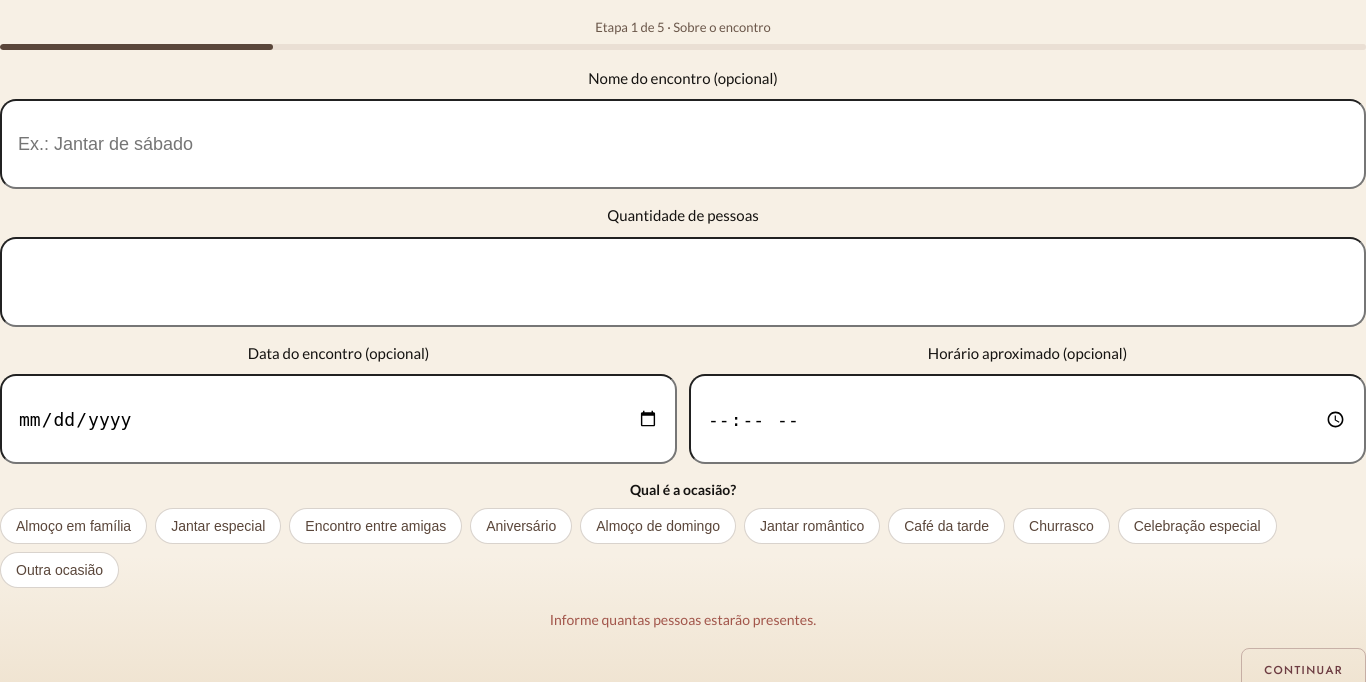
Test: MenuBuilderPage › exige a quantidade de pessoas e ao menos uma etapa do cardápio
Earlier steps of the test are not shown.
Expected: the message shows "quantas pessoas", [550, 611, 816, 628]
Type "6" into the number field labelled "Quantidade de pessoas" at (683, 282), box [0, 237, 1365, 327]
(page scrolled)
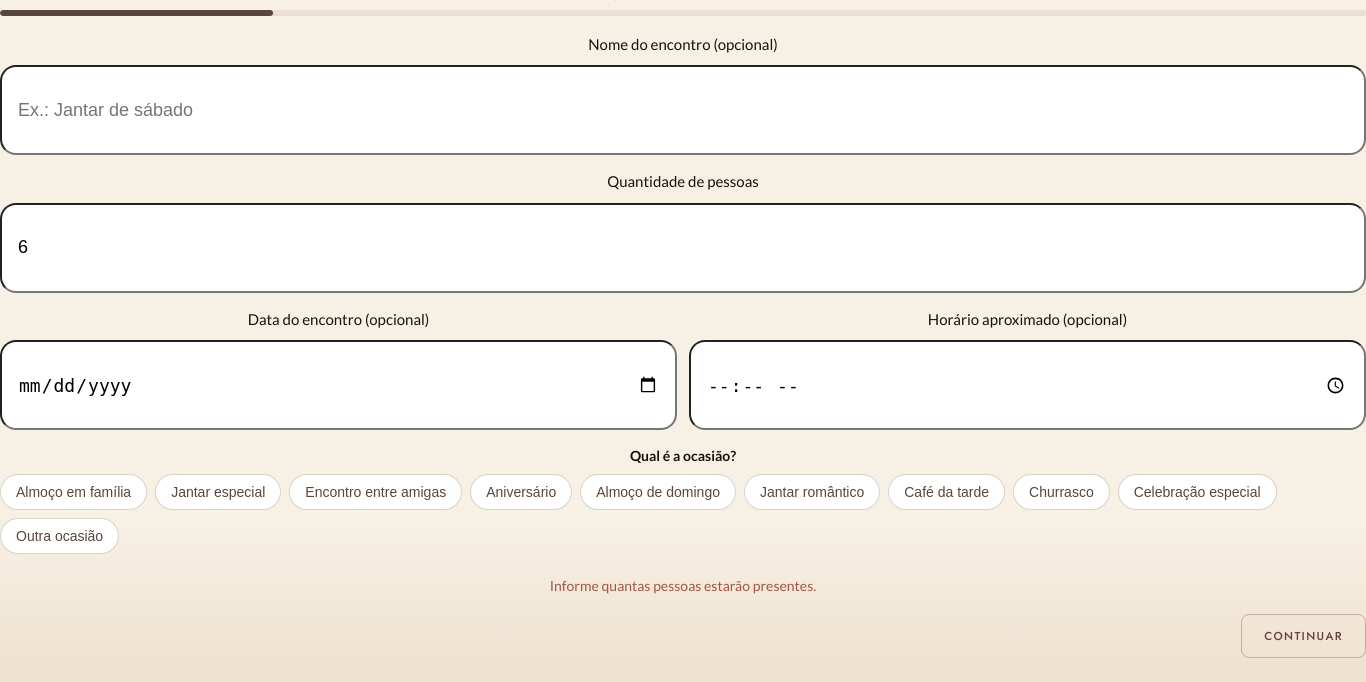
Click the button "Continuar" at (1304, 636), box [1241, 614, 1365, 658]
(page scrolled)
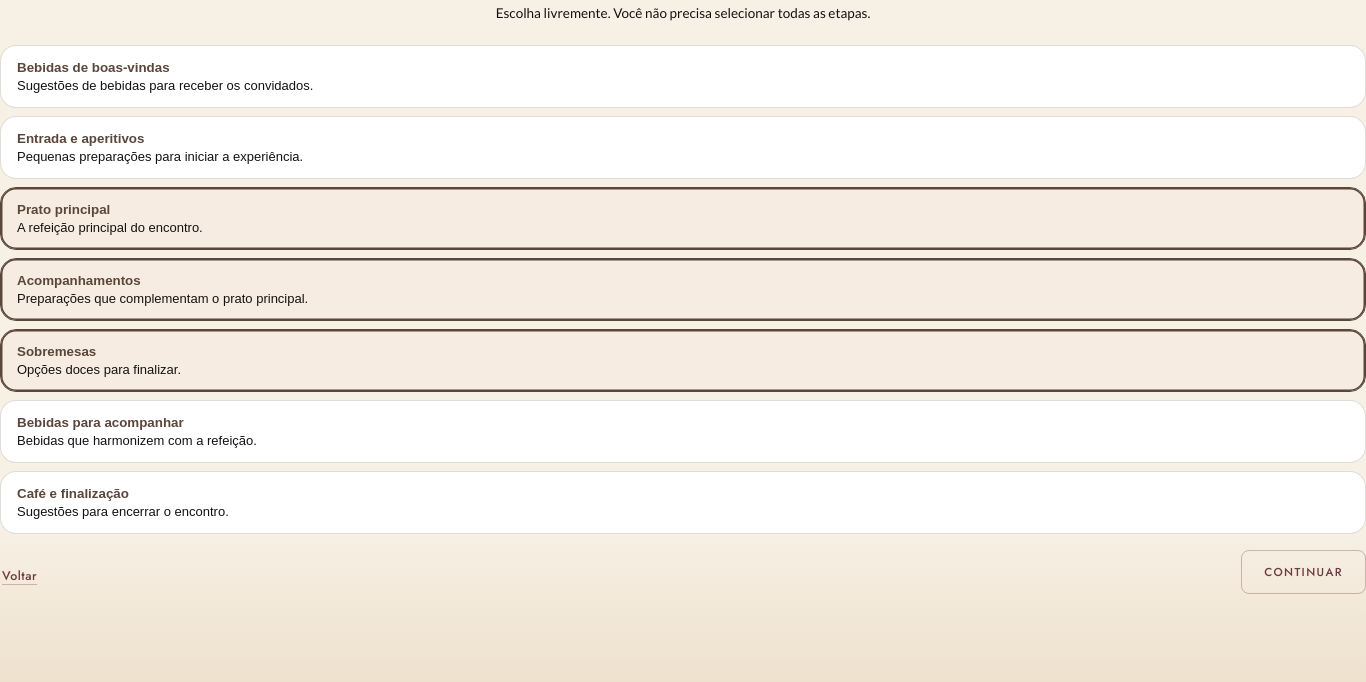
Click the button "Prato principal A refeição principal do encontro." at (64, 209), box [0, 187, 1365, 250]
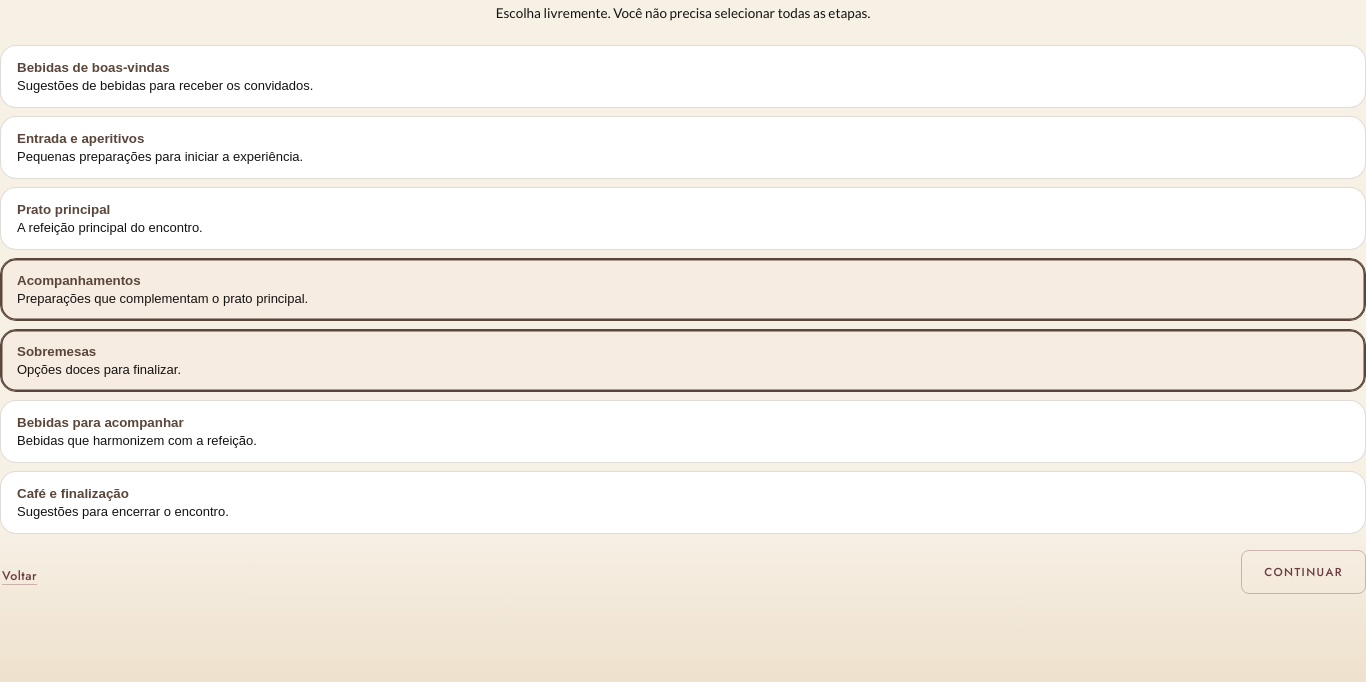
Click the button that starts with "Acompanhamentos" at (79, 280), box [0, 258, 1365, 321]
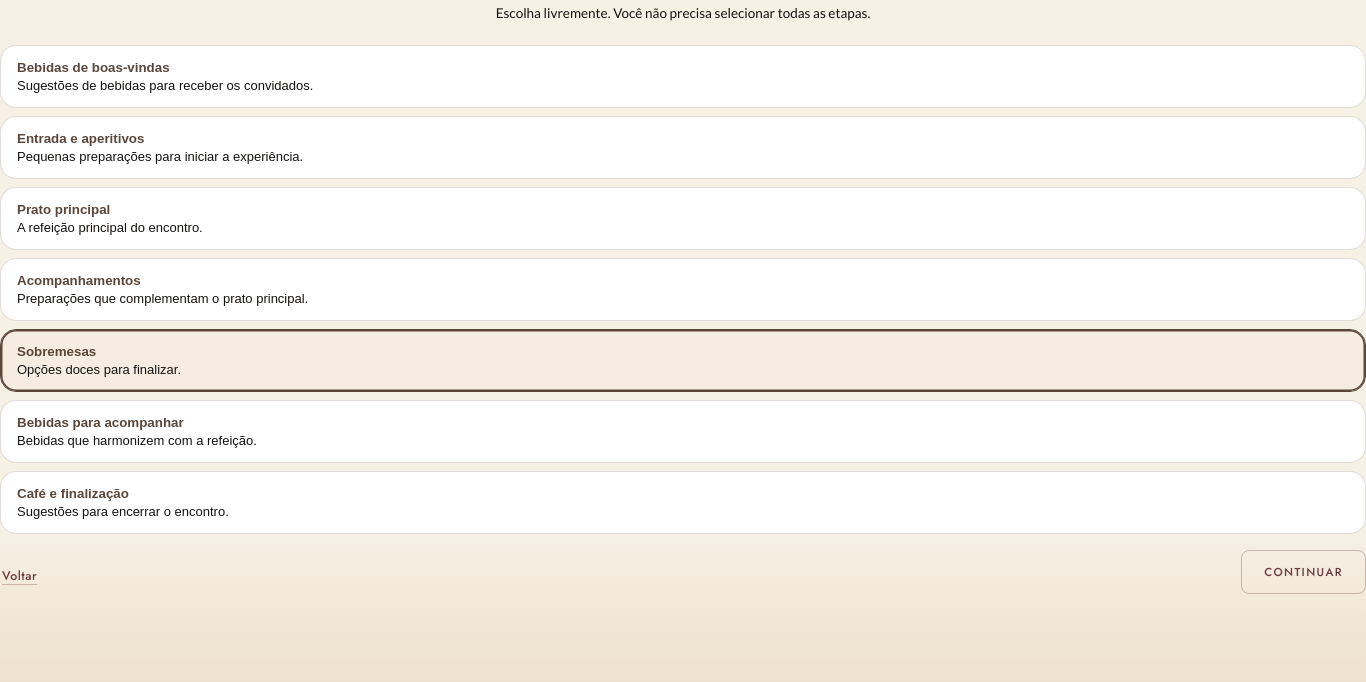
Click the button "Sobremesas Opções doces para finalizar." at (57, 351), box [0, 329, 1365, 392]
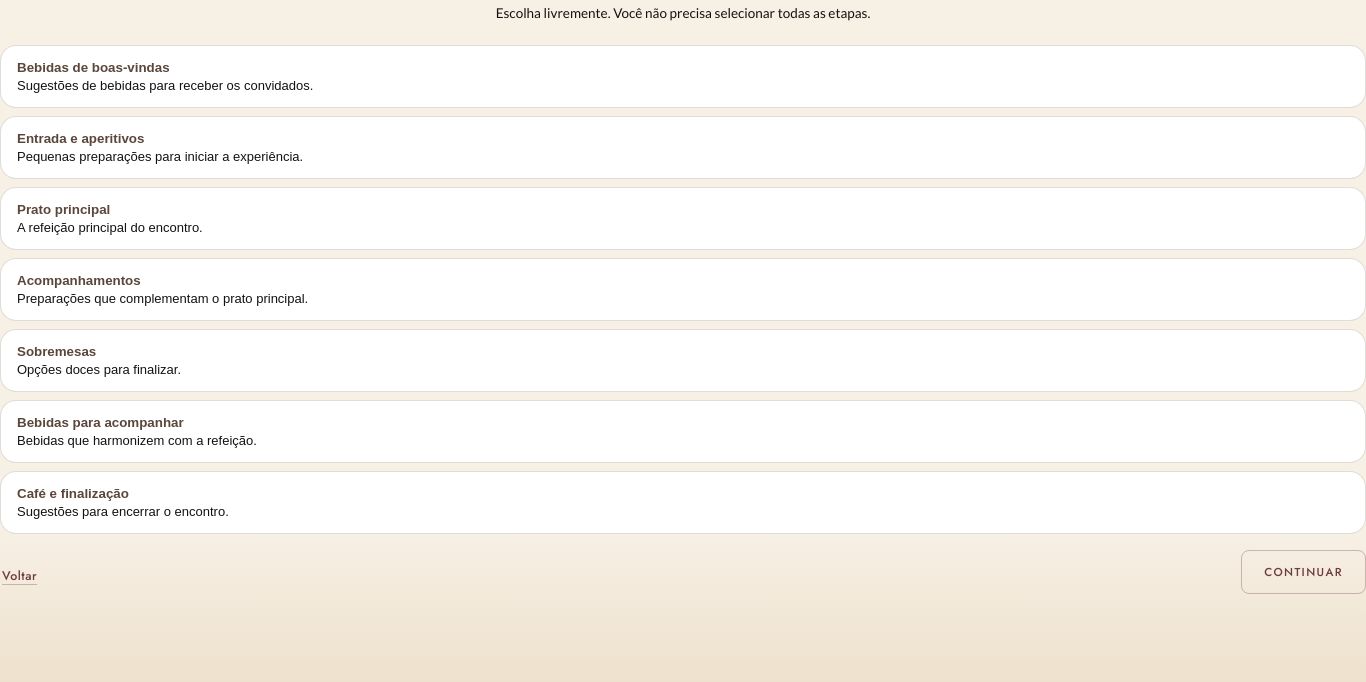
Click the button "Continuar" at (1304, 572), box [1241, 550, 1365, 594]
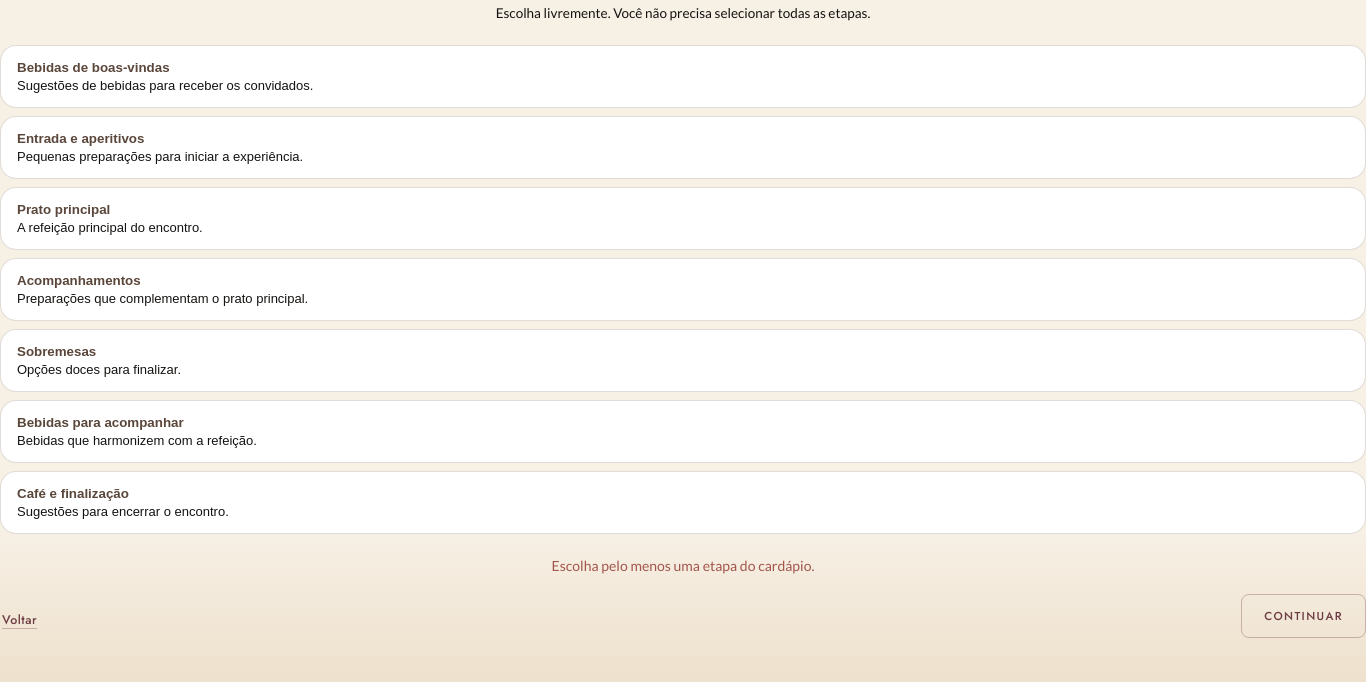
Expected: the message shows "pelo menos uma etapa", [552, 557, 814, 574]
